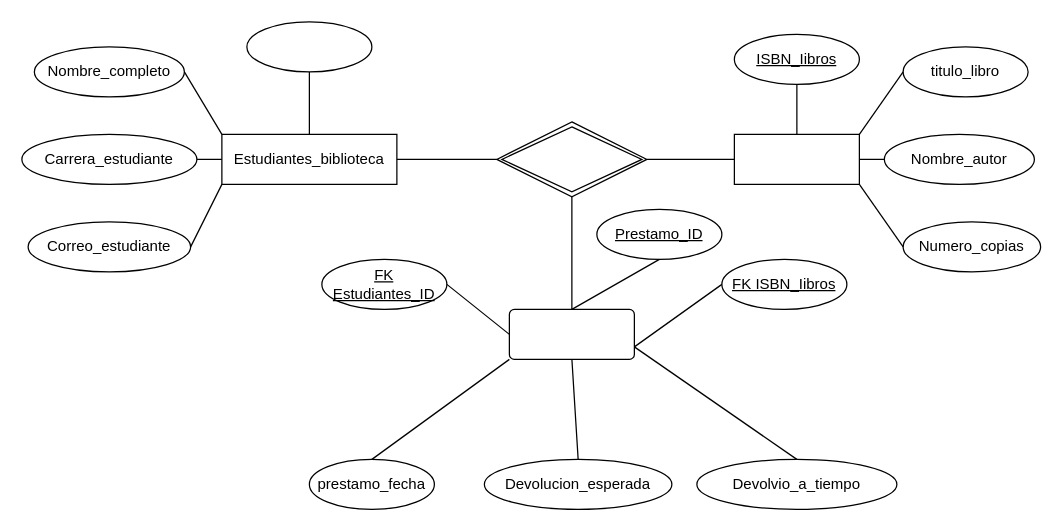
Some shapes in this 1063 by 531 pixel diagram are drawn without their labels. Each missing label, with the centre of its shape:
Estudiantes_ID: the point at 309,46
Libros_biblioteca: the point at 796,158
Prestamo_libro: the point at 571,333
Relationship: the point at 571,159
